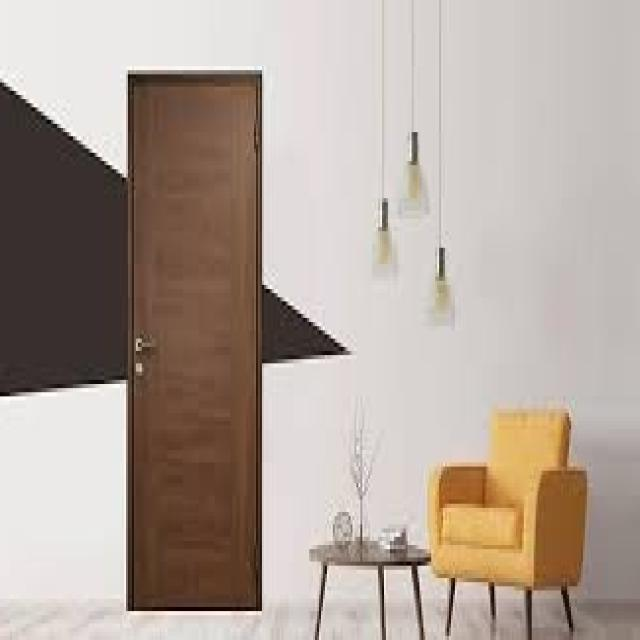door: (127, 70, 263, 611)
